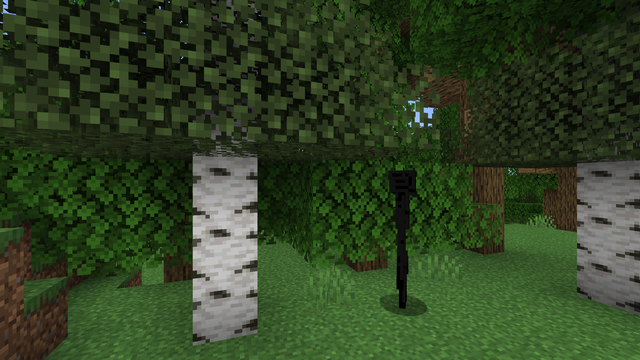endermens: (382, 165, 423, 312)
